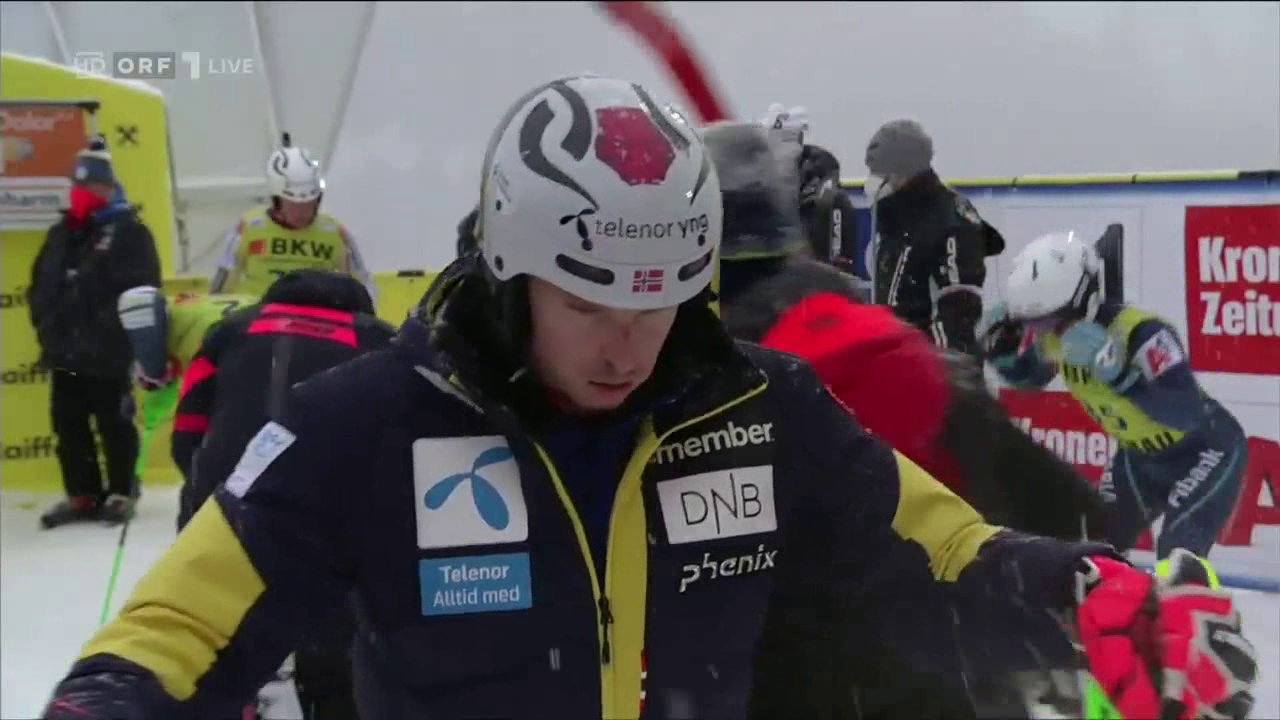kronenzeitung: (1194, 230, 1279, 361), (995, 407, 1114, 471)
raiffeisen: (110, 118, 148, 150)
